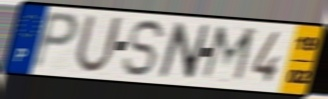4: (249, 30, 283, 86)
M: (198, 23, 260, 86)
N: (155, 20, 213, 82)
P: (29, 9, 82, 73)
S: (119, 18, 170, 79)
U: (71, 11, 125, 76)
